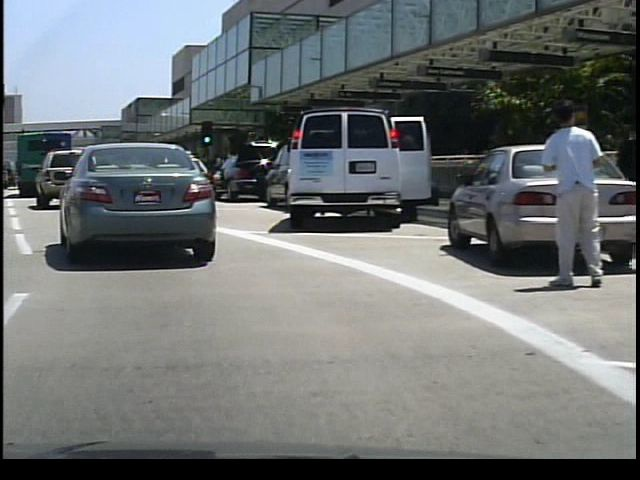person: (536, 95, 602, 291), (608, 116, 637, 233)
